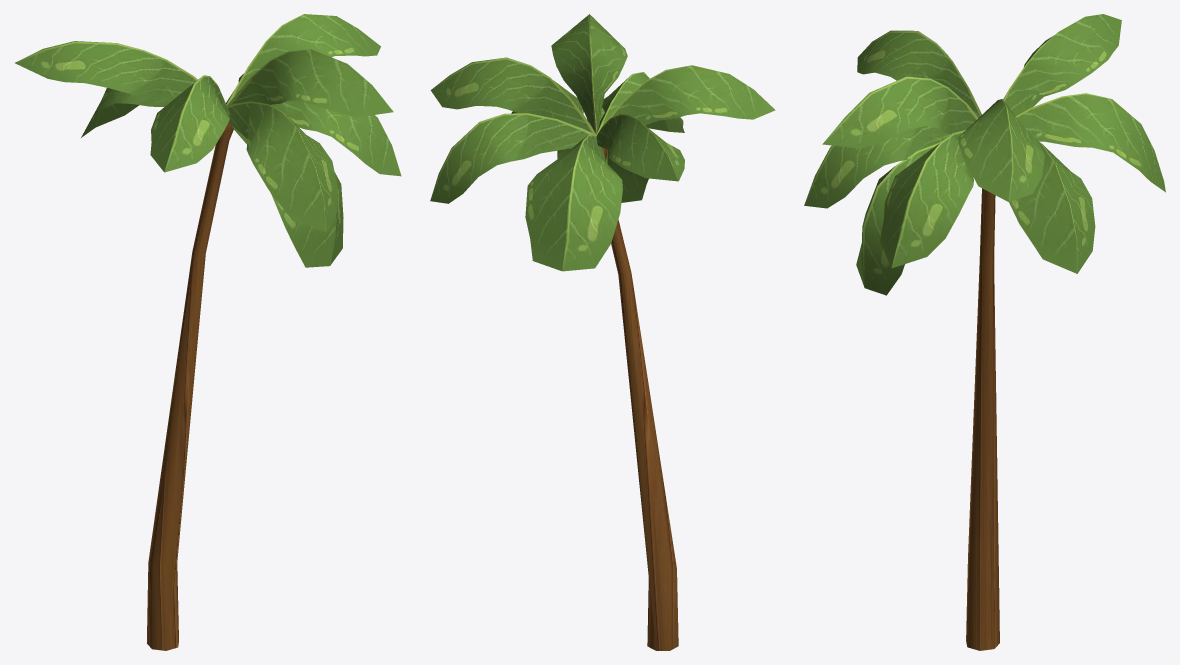
The model's file is decorLarge-harbor-54.glb.
3 views of the same model, side by side, from view 1: azimuth 30°, elevation 25°; view 2: azimuth 150°, elevation 25°; view 3: azimuth 270°, elevation 25° (orthographic). The views are drawn at different scales.
Parts seen in each view (by area): view 1: piece; view 2: piece; view 3: piece.
Boxes of the visible parts, bbox=[...] form: piece: bbox=[15, 14, 401, 650]; piece: bbox=[430, 14, 775, 650]; piece: bbox=[804, 14, 1165, 650].
Size of the model in its own units: 3.17 by 5.74 by 3.02.
Materials: 1 (1 with a texture image).
